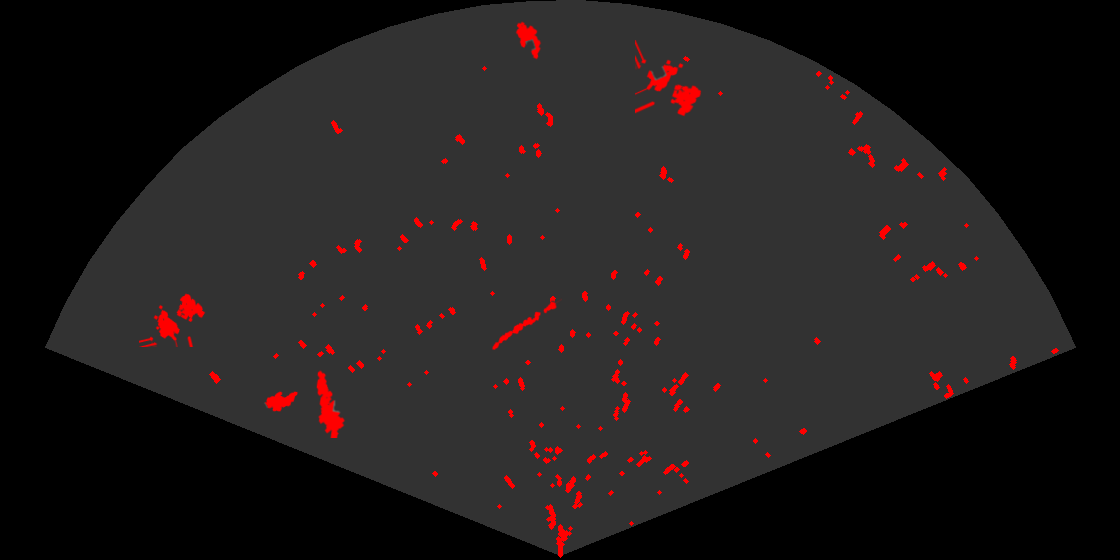AUV: (514, 20, 543, 61), (263, 390, 300, 413)
cage: (635, 40, 703, 118), (139, 292, 207, 347)
chain: (490, 297, 562, 352)
frogman: (315, 369, 347, 438)
